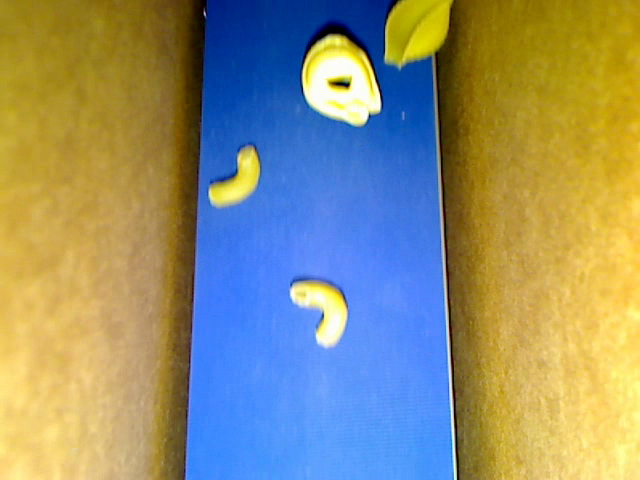elbow: (289, 279, 348, 350), (208, 145, 260, 207)
shell: (383, 1, 453, 73)
tortellini: (300, 34, 381, 128)
